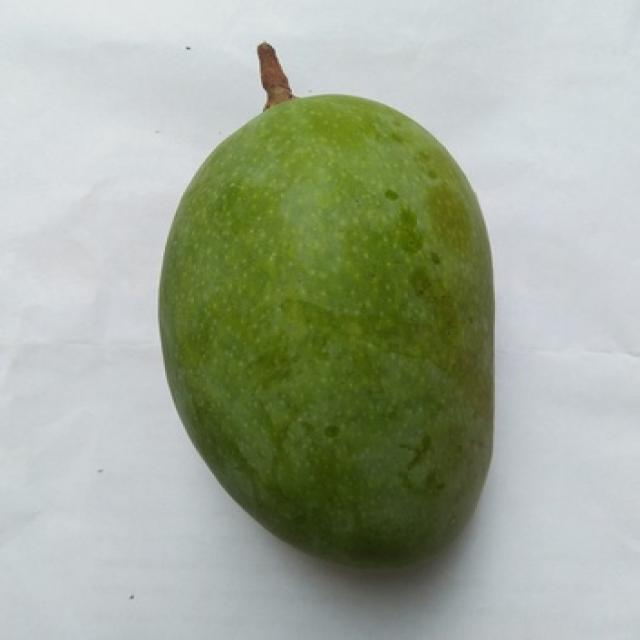Mango: (160, 82, 493, 563)
